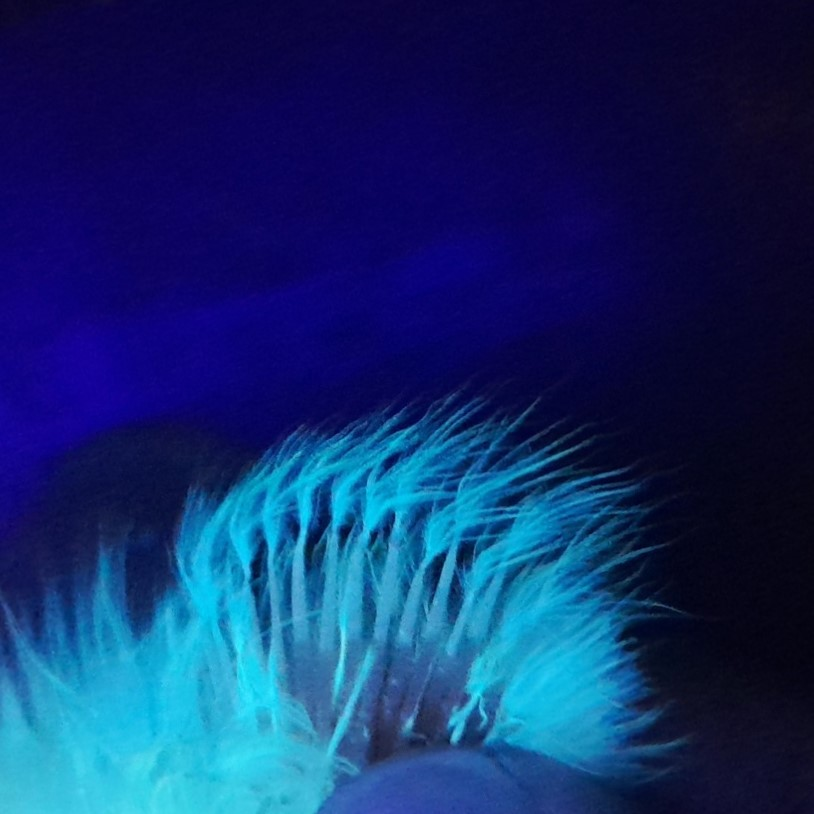male: (225, 498, 562, 773)
